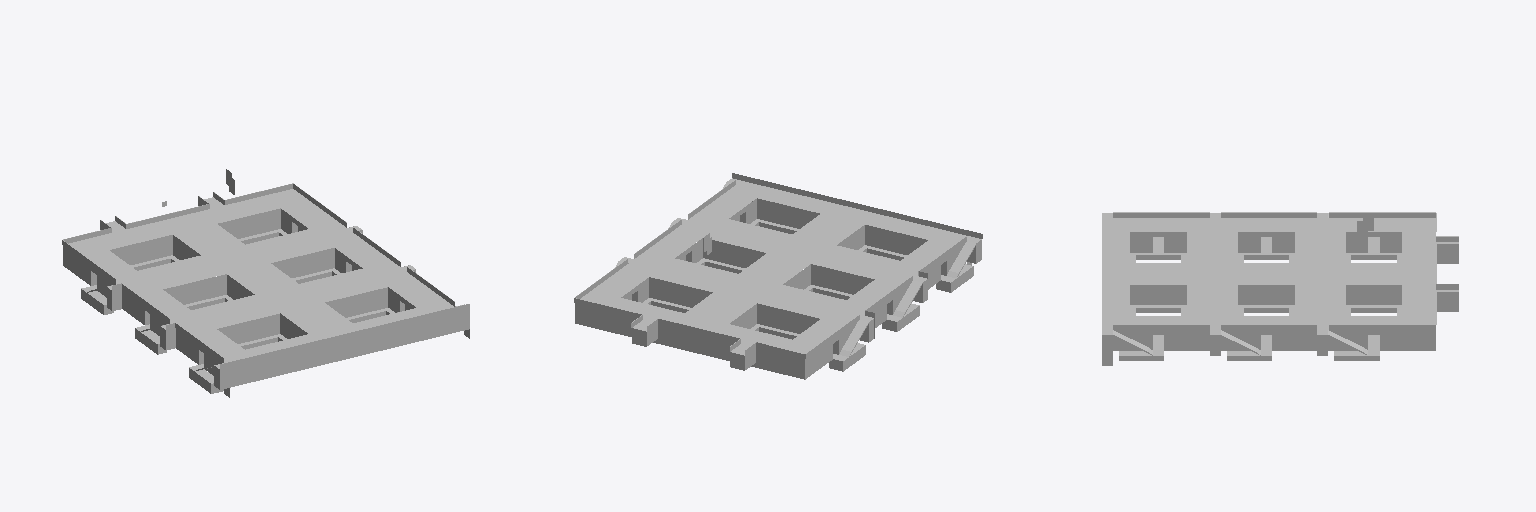
File: Hangar1dec2020fenceTESTS.obj
The picture shows the model from 3 angles: view 1: azimuth 30°, elevation 25°; view 2: azimuth 150°, elevation 25°; view 3: azimuth 270°, elevation 25°; orthographic projection.
Visible parts, largest first — view 1: Cube.004, Cube.001, Cube.002; view 2: Cube.004, Cube.001, Cube.002; view 3: Cube.004, Cube.001, Cube.002.
Part boxes in pixels (x1,y1,x2,y2): Cube.004: (62,183,469,383); Cube.001: (63,201,459,393); Cube.002: (87,226,469,397); Cube.004: (574,173,982,370); Cube.001: (575,198,973,379); Cube.002: (615,178,981,356); Cube.004: (1102,212,1458,355); Cube.001: (1113,232,1447,360); Cube.002: (1102,213,1367,365).
Size of the model in its own units: 25.51 by 9.5 by 31.57.